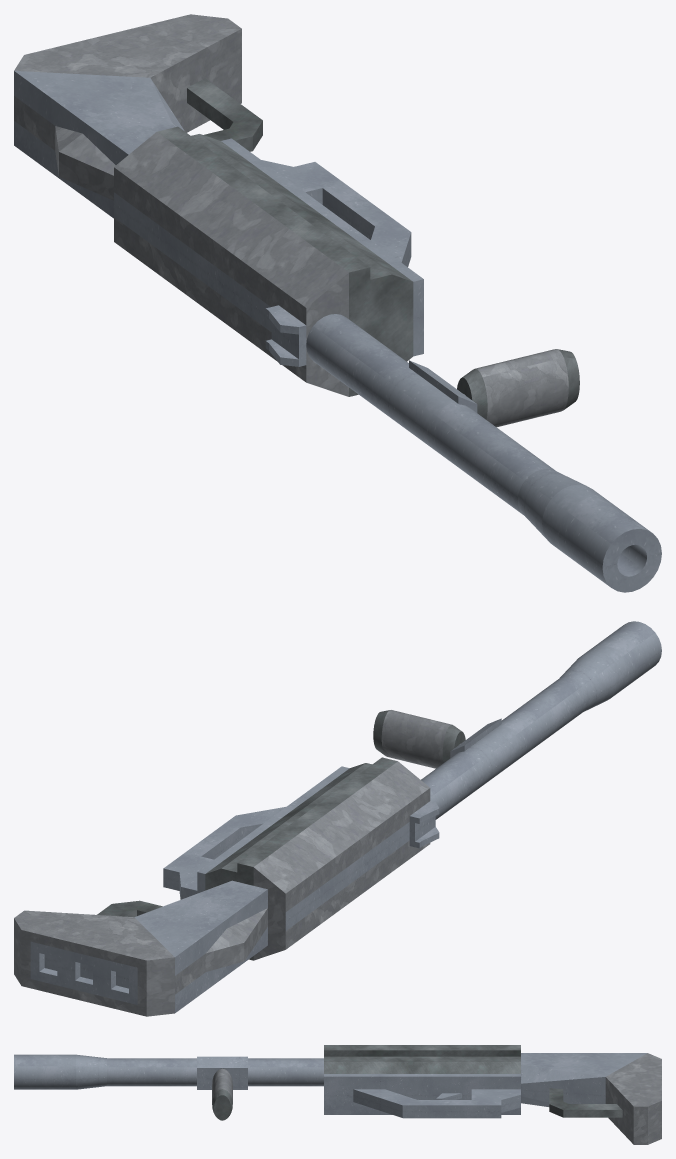
File: gunno.obj
3 views of the same model, one above another, from view 1: azimuth 30°, elevation 25°; view 2: azimuth 150°, elevation 25°; view 3: azimuth 270°, elevation 25° (orthographic). The views are drawn at different scales.
Visible parts, largest first — view 1: mergedBlocks; view 2: mergedBlocks; view 3: mergedBlocks.
Boxes of the visible parts, x1=… form: mergedBlocks: x1=14, y1=14, x2=661, y2=592; mergedBlocks: x1=14, y1=621, x2=661, y2=1016; mergedBlocks: x1=14, y1=1045, x2=661, y2=1144.
Bounding box in the file's own units: 1.08 × 0.5 × 4.6.
